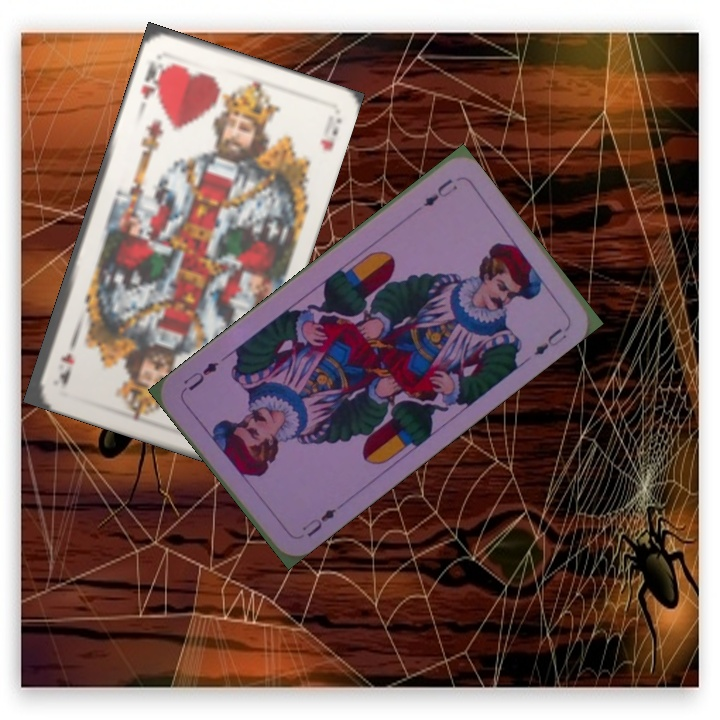EU: (297, 504, 339, 540), (419, 174, 461, 210)
HK: (136, 57, 170, 102)
